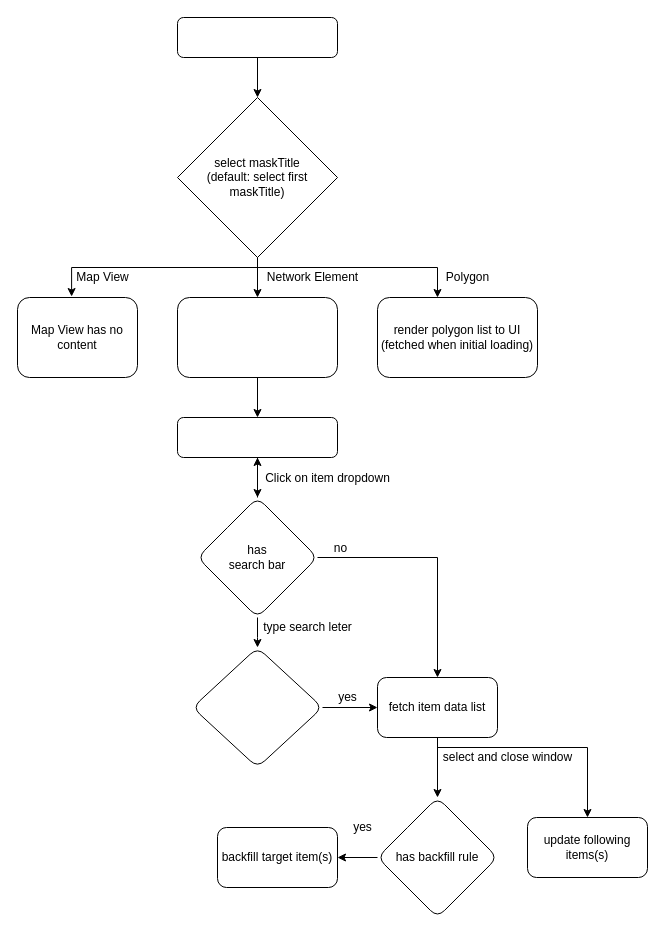
Image size: 665x935. Some labels were removed from this diagram. The shapes that lost their labels are listed below. From the top down, each one's centre as x and y in pixels, then its label:
the point at 257,37: receive condition data
the point at 257,337: select maskId (default: select first maskId)
the point at 257,437: render corresponding item
the point at 257,707: search letter length >= 3
